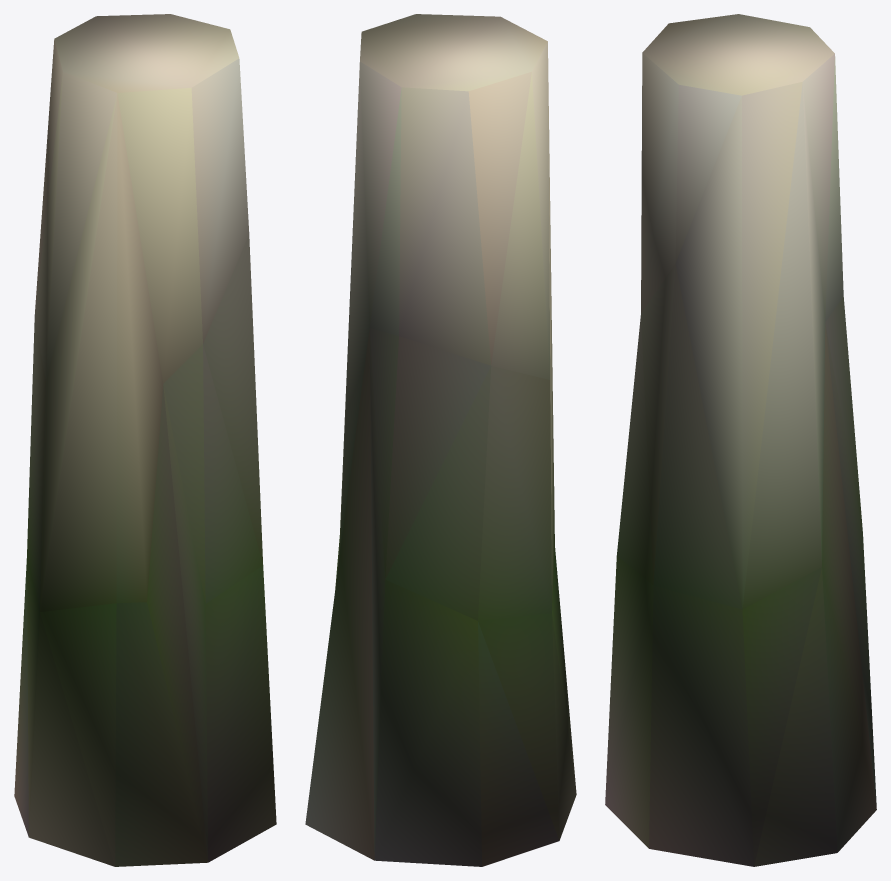
The model's file is megalith_bk_foret_broceliande_0004.glb.
The picture shows the model from 3 angles, left to right: view 1: azimuth 30°, elevation 25°; view 2: azimuth 150°, elevation 25°; view 3: azimuth 270°, elevation 25°; orthographic projection.
Visible parts, largest first — view 1: megalith_bk_004; view 2: megalith_bk_004; view 3: megalith_bk_004.
Part boxes in pixels (x1,y1,x2,y2): megalith_bk_004: (14,14,276,866); megalith_bk_004: (305,14,576,866); megalith_bk_004: (605,14,876,866).
Size of the model in its own units: 0.977 by 3 by 0.9806.
